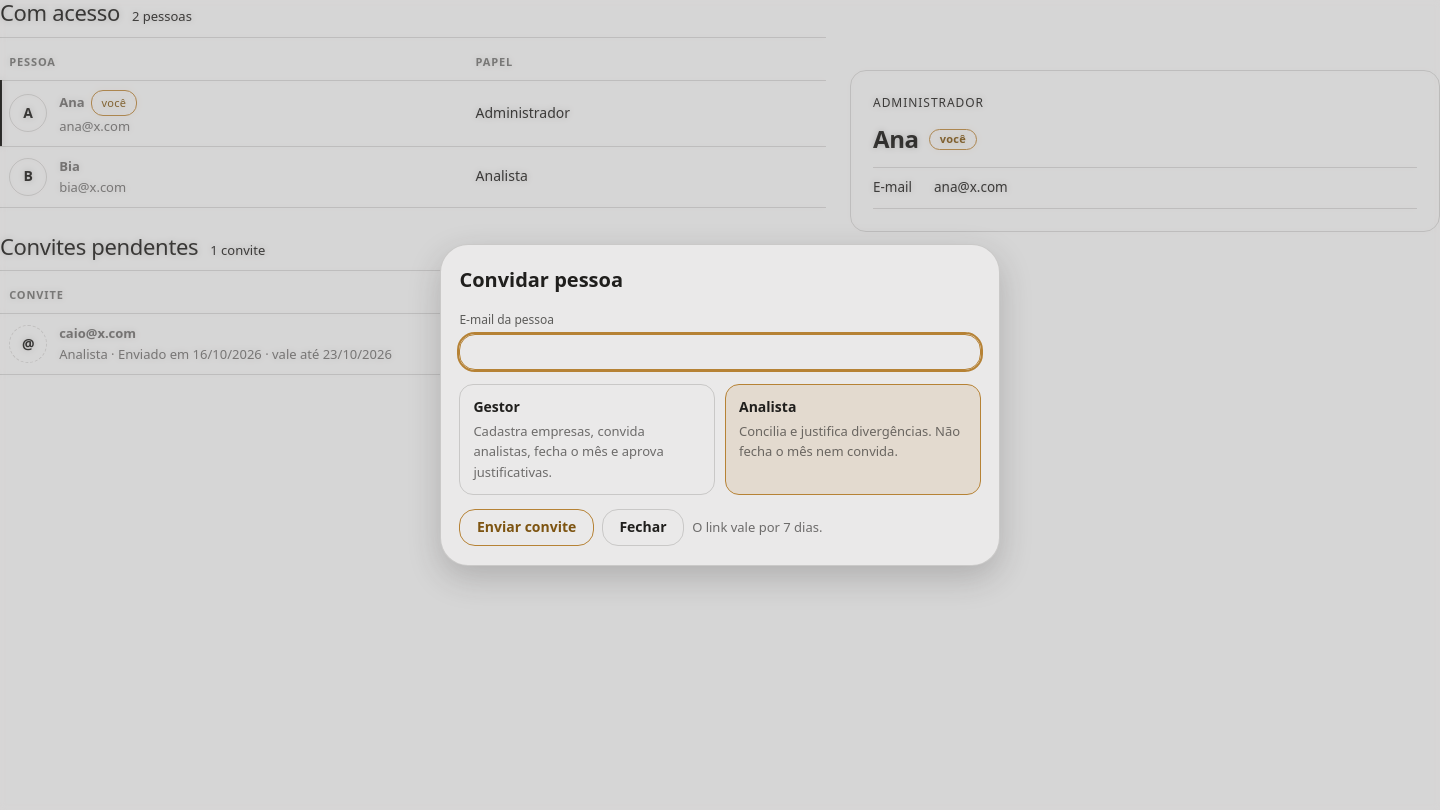
a equipe › mostra o erro do convite e mantém o e-mail digitado
Type "bia@x.com" into the field labelled "E-mail da pessoa" at [720, 352], box [459, 334, 981, 370]
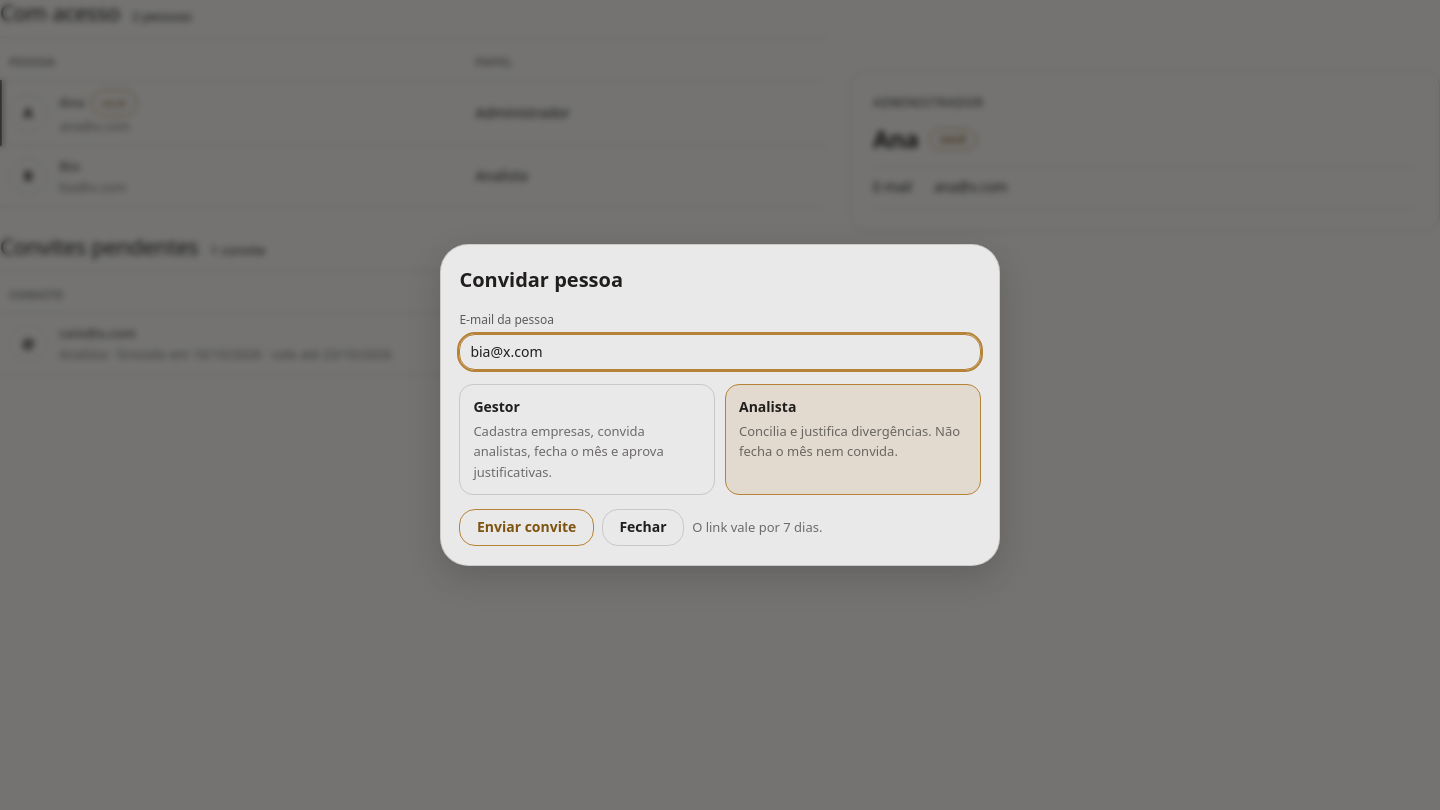
Click the button "Enviar convite" at [527, 528], box [459, 509, 594, 546]
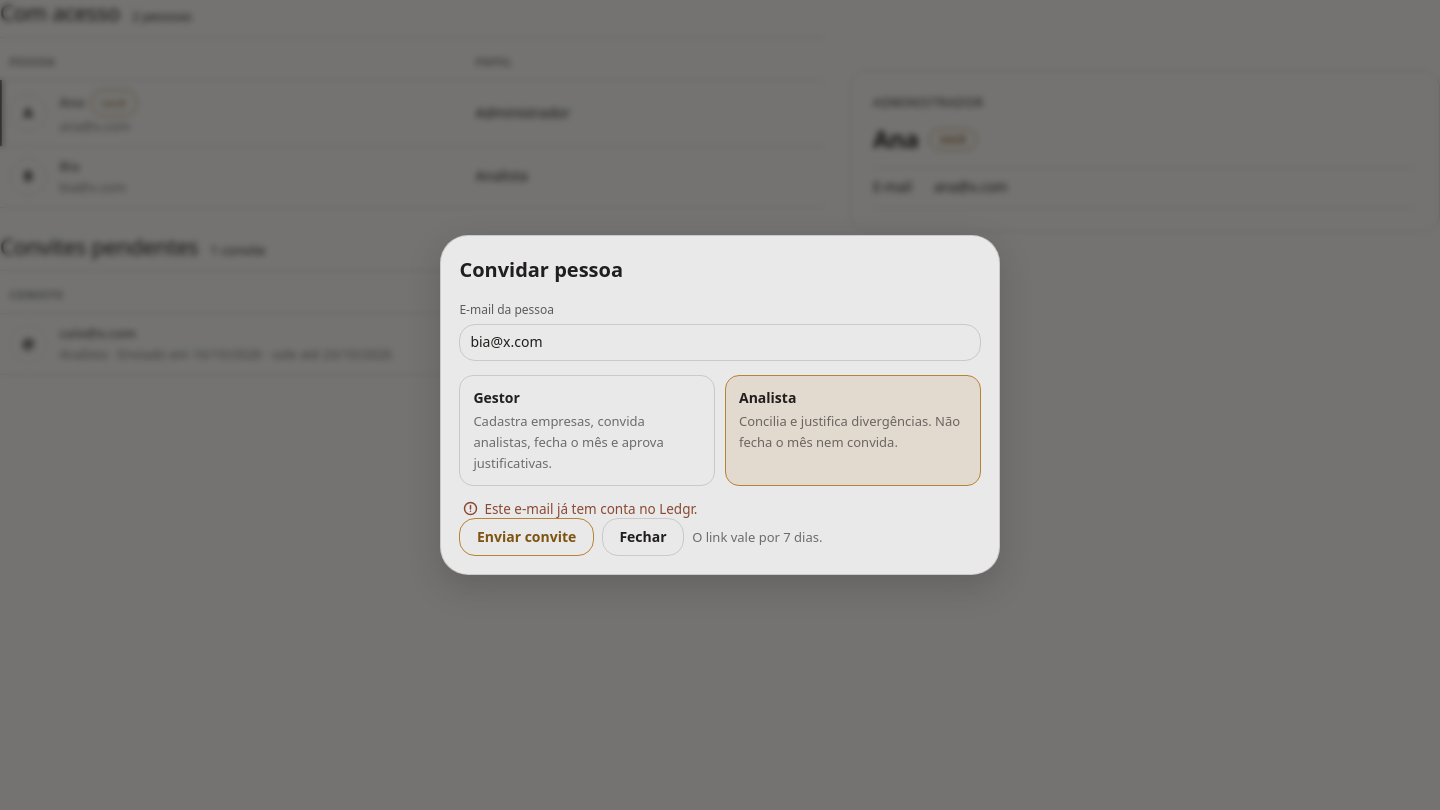
Expected: the message reads "Este e-mail já tem conta no Ledgr.", [484, 500, 698, 518]
